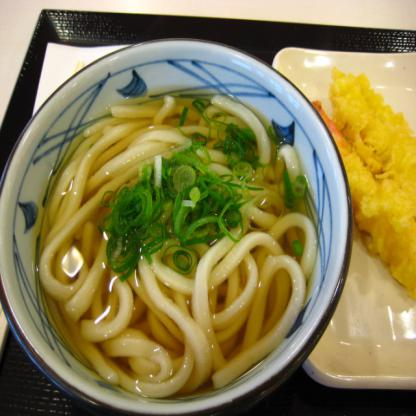Udon: (45, 96, 313, 394)
